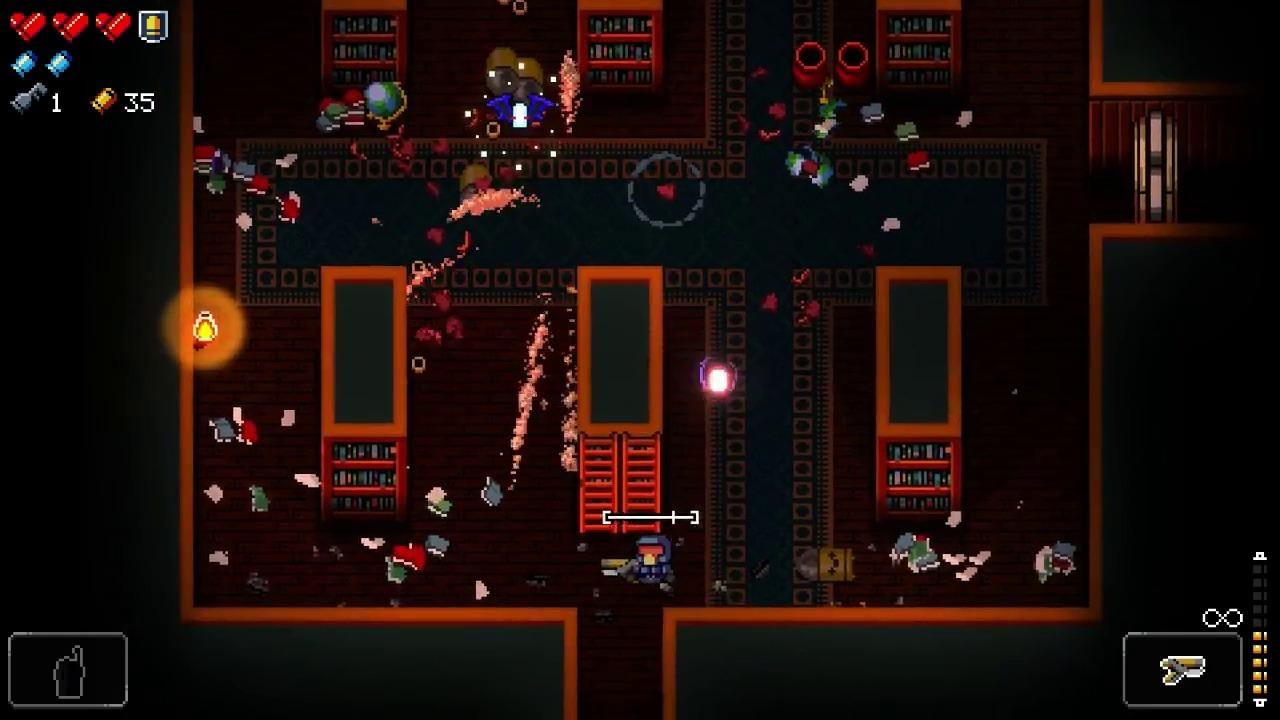bullet: (704, 366, 735, 398)
dead_bullet_kin: (794, 545, 854, 582), (460, 161, 492, 223), (486, 46, 519, 98)
locked_door: (1131, 108, 1179, 229)
player: (636, 534, 672, 586)
